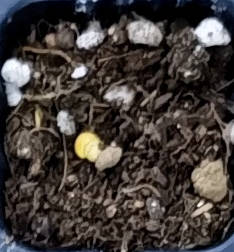pepper seed: (29, 59, 140, 222), (22, 51, 125, 211)
